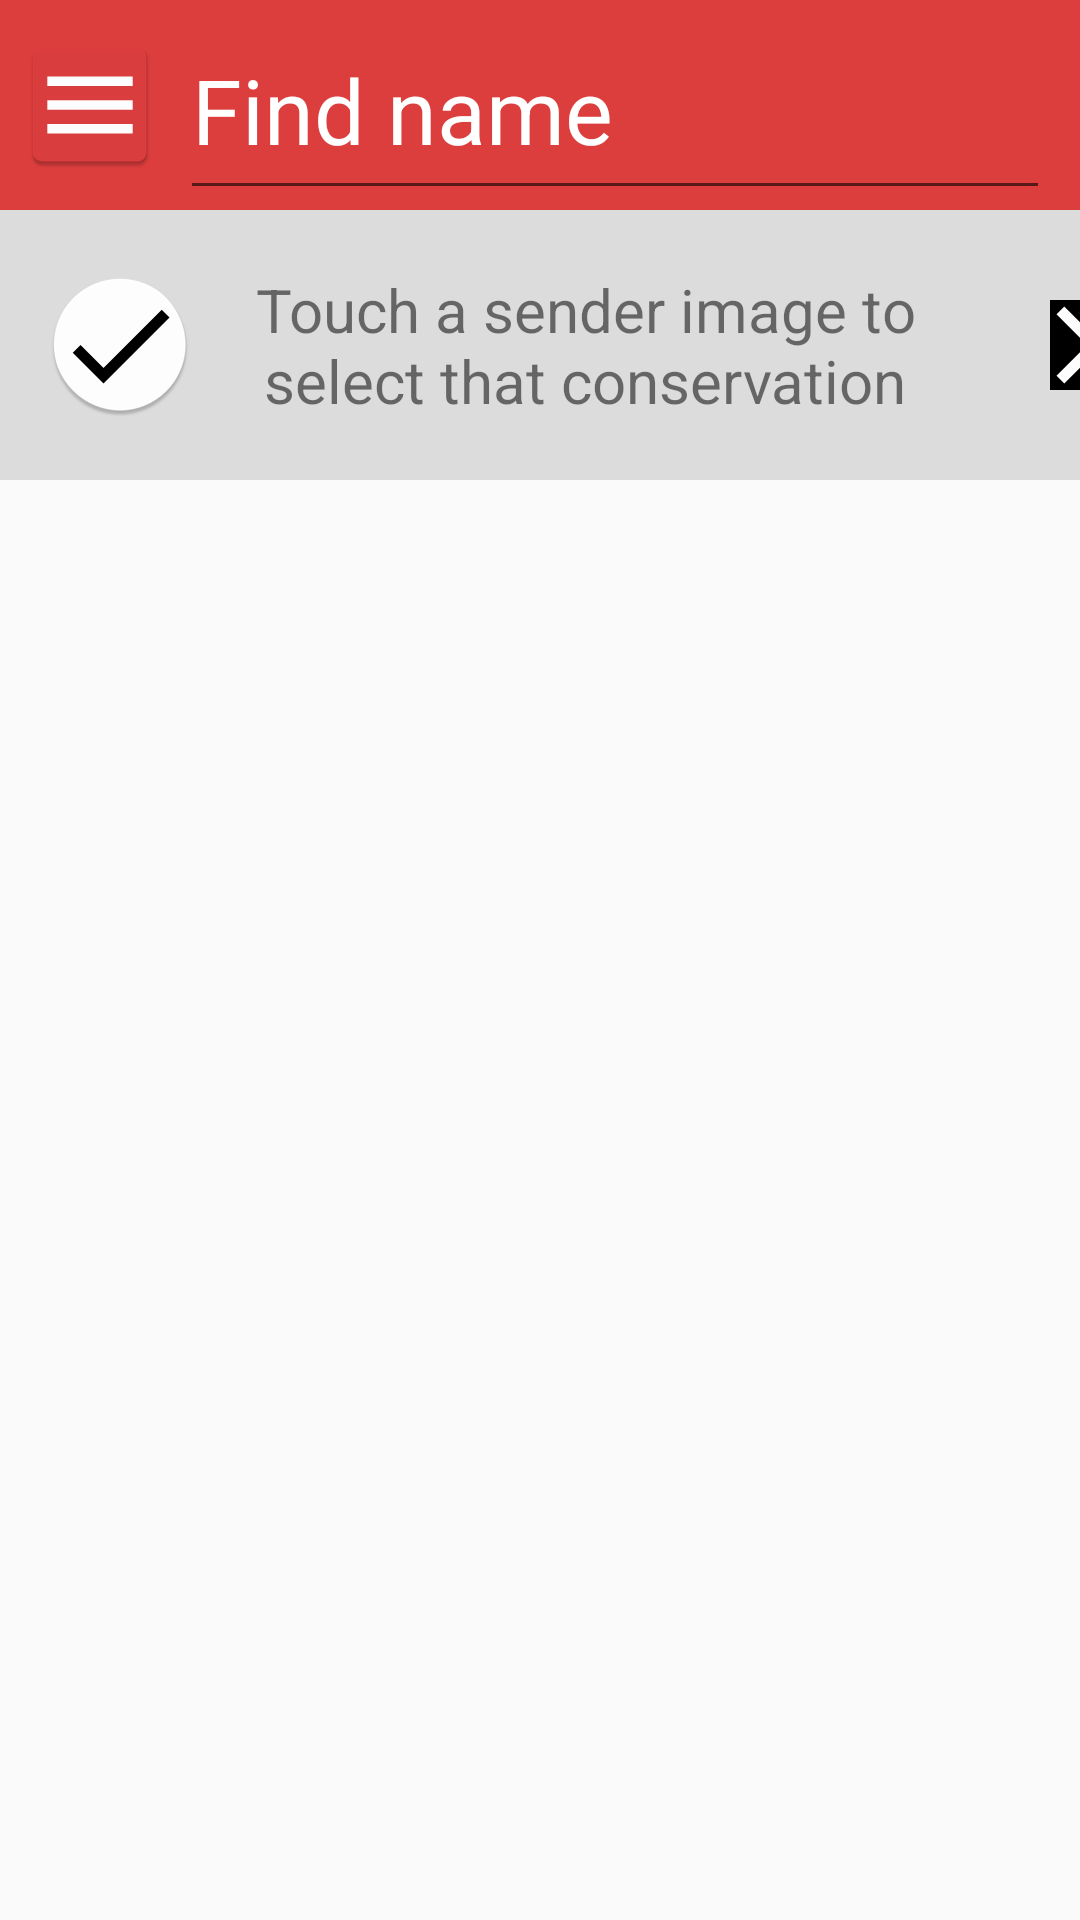

Icons on this 1080px x 1920px Android screen, each with its box as (x1, y1, x2, y2):
check: (54, 279, 186, 414)
menu: (33, 54, 148, 165)
